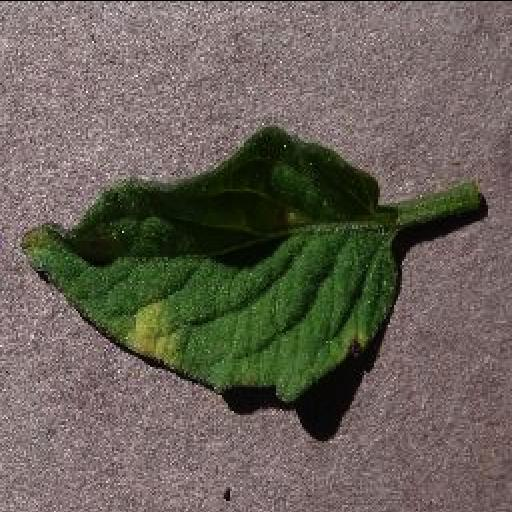disease_tomato: (16, 126, 398, 400)
